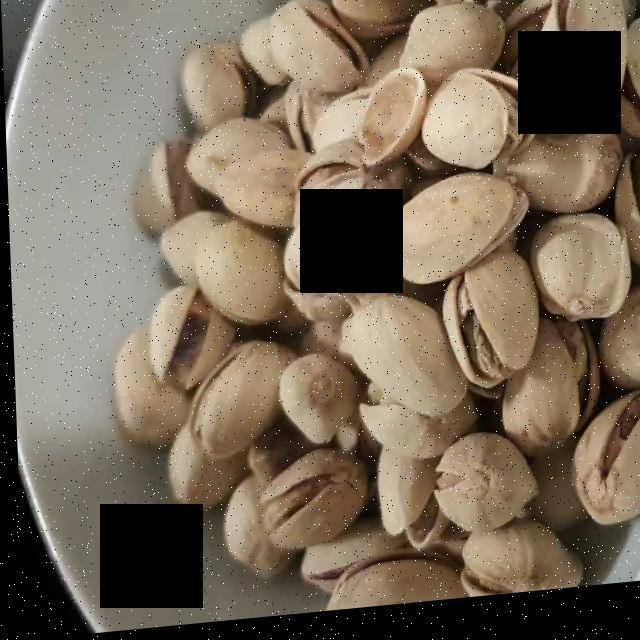pistachio: (112, 0, 629, 601)
